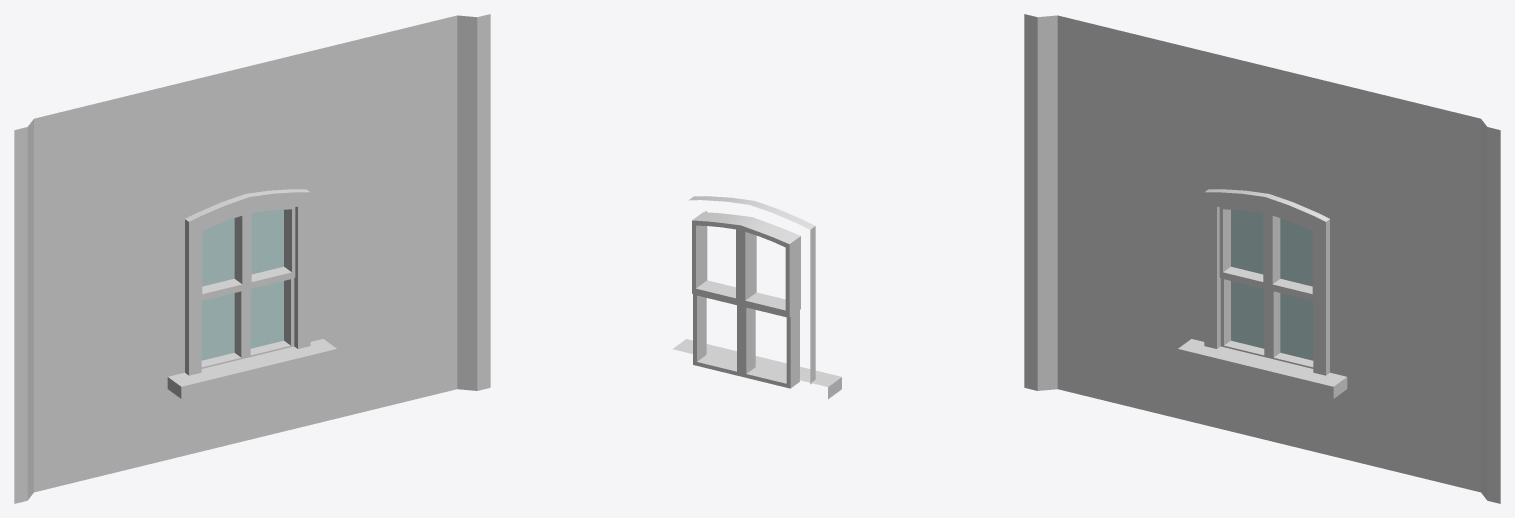
Rendered from Brick_Inset_Window_Curved_Small.gltf.
3 views of the same model, side by side, from view 1: azimuth 30°, elevation 25°; view 2: azimuth 150°, elevation 25°; view 3: azimuth 330°, elevation 25° (orthographic).
Visible parts, largest first — view 1: Brick_Inset_Window_Curved_Small; view 2: Brick_Inset_Window_Curved_Small; view 3: Brick_Inset_Window_Curved_Small.
Part boxes in pixels (x1,y1,x2,y2): Brick_Inset_Window_Curved_Small: [14, 14, 490, 503]; Brick_Inset_Window_Curved_Small: [672, 196, 841, 399]; Brick_Inset_Window_Curved_Small: [1024, 14, 1500, 503].
Bounding box in the file's own units: 4 × 3 × 0.3426.
